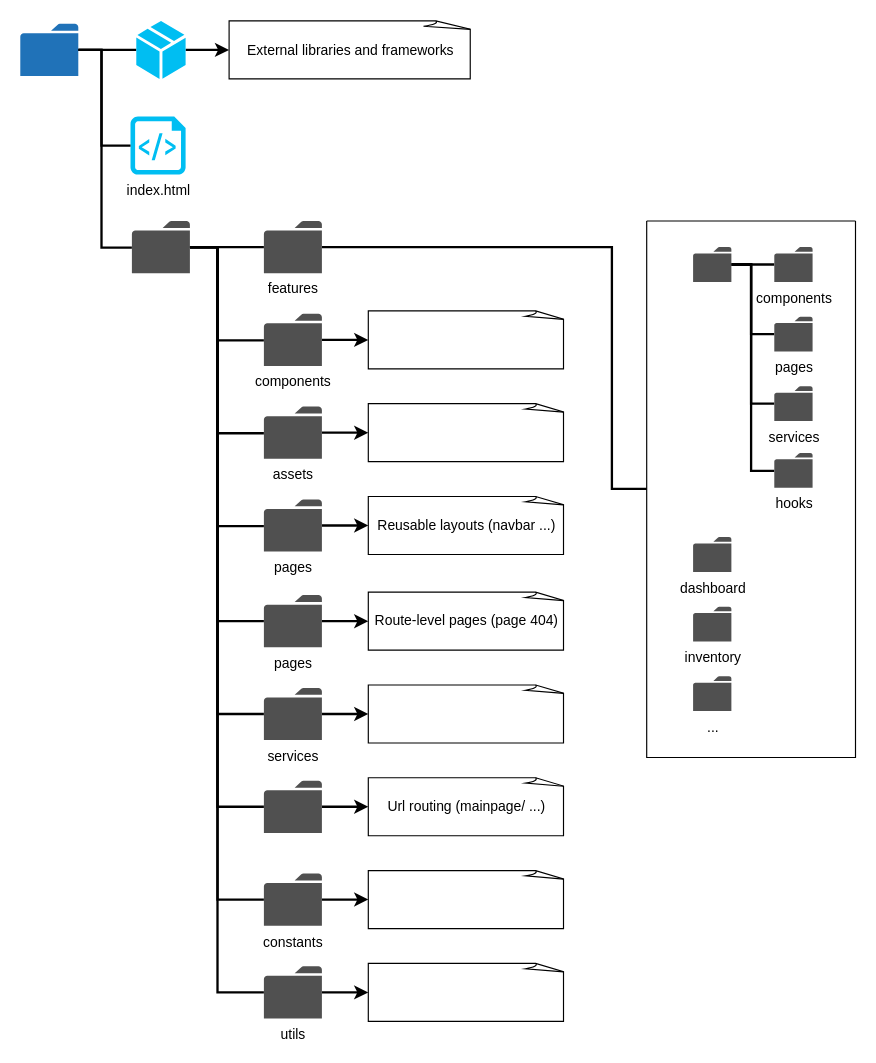
The diagram is 876 pixels wide and 1063 high, and some of its shapes have lost their labels. Each missing label, with the centre of its shape:
"API calls (fetch config ...)" belongs at point (466, 713).
"auth" belongs at point (712, 263).
"Client" belongs at point (49, 49).
"Dependencies" belongs at point (160, 49).
"Helper functions (formatDate..)" belongs at point (466, 991).
"images, fonts, icons ..." belongs at point (466, 432).
"Reusable UI (buttons, inputs)" belongs at point (466, 339).
"routes" belongs at point (292, 806).
"src" belongs at point (160, 246).
"Static values (urls, roles, ...)" belongs at point (466, 899).
